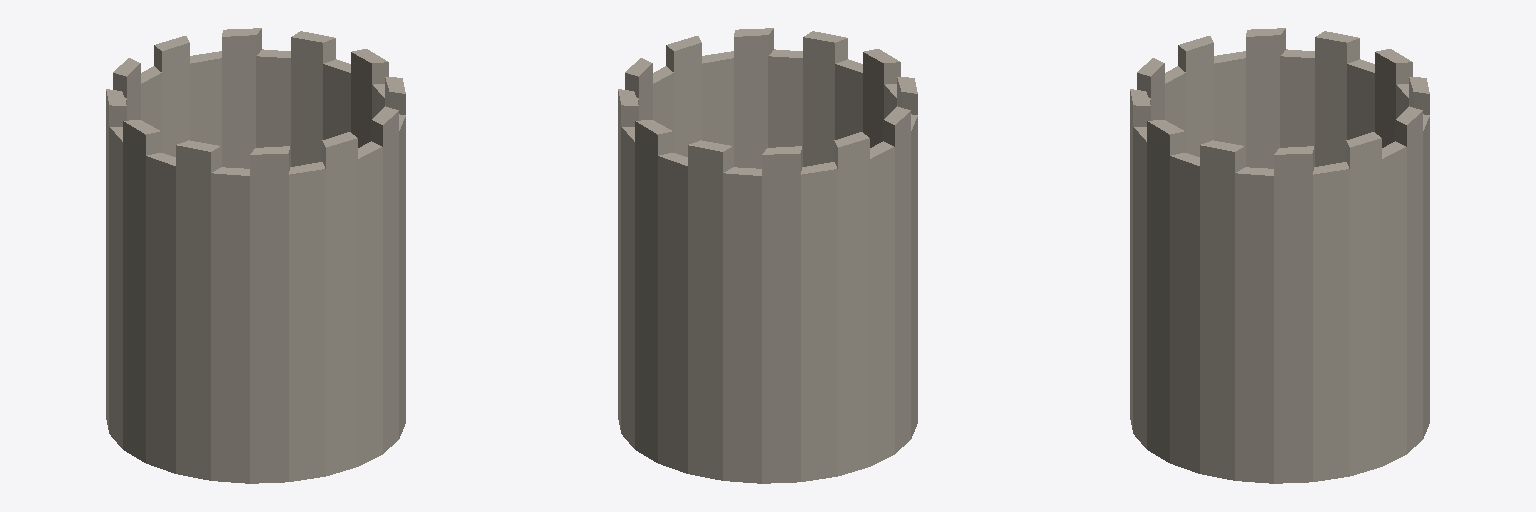
Rendered from FirstTower.obj.
The picture shows the model from 3 angles: view 1: azimuth 30°, elevation 25°; view 2: azimuth 150°, elevation 25°; view 3: azimuth 270°, elevation 25°; orthographic projection.
Parts seen in each view (by area): view 1: Mesh1 Model; view 2: Mesh1 Model; view 3: Mesh1 Model.
Part boxes in pixels (bbox=[...]): Mesh1 Model: bbox=[106, 28, 405, 483]; Mesh1 Model: bbox=[618, 28, 917, 483]; Mesh1 Model: bbox=[1130, 28, 1429, 483].
Bounding box in the file's own units: 3.98 × 4.81 × 3.98.